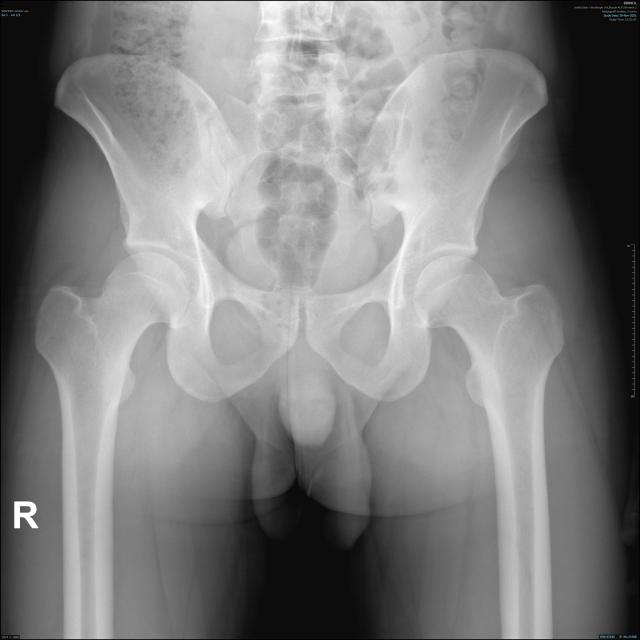normal-left: (414, 254, 564, 485)
normal-right: (35, 251, 190, 482)
